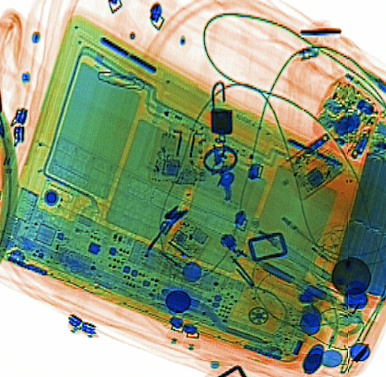powerbank: (327, 119, 383, 299)
